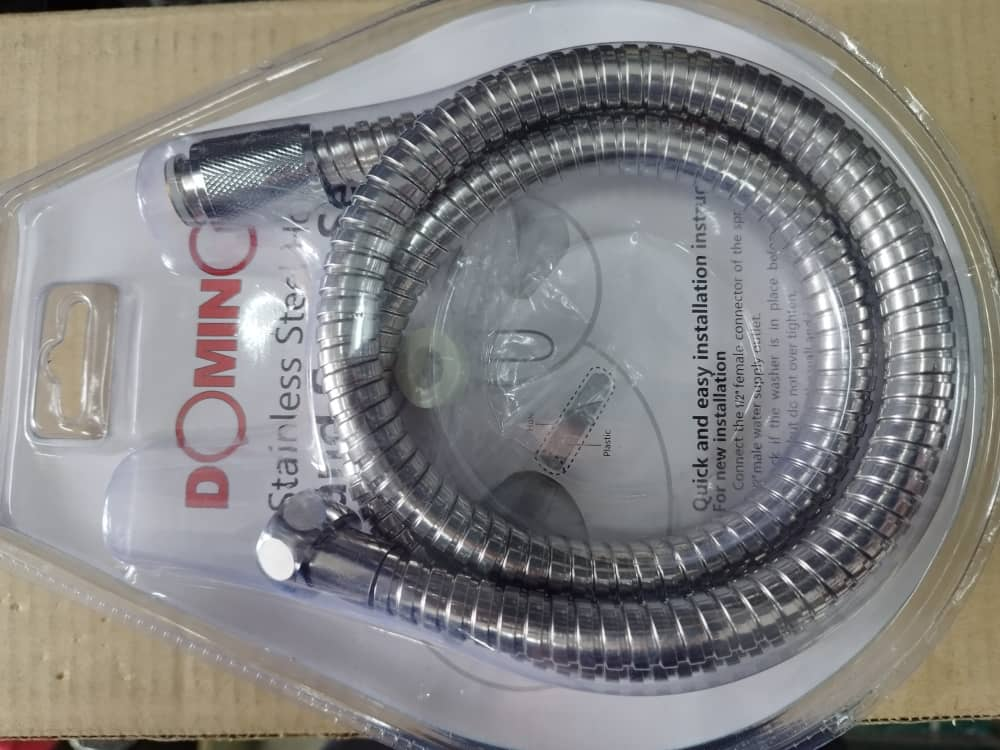sku_ss304_bidet_hose: (145, 41, 975, 685)
